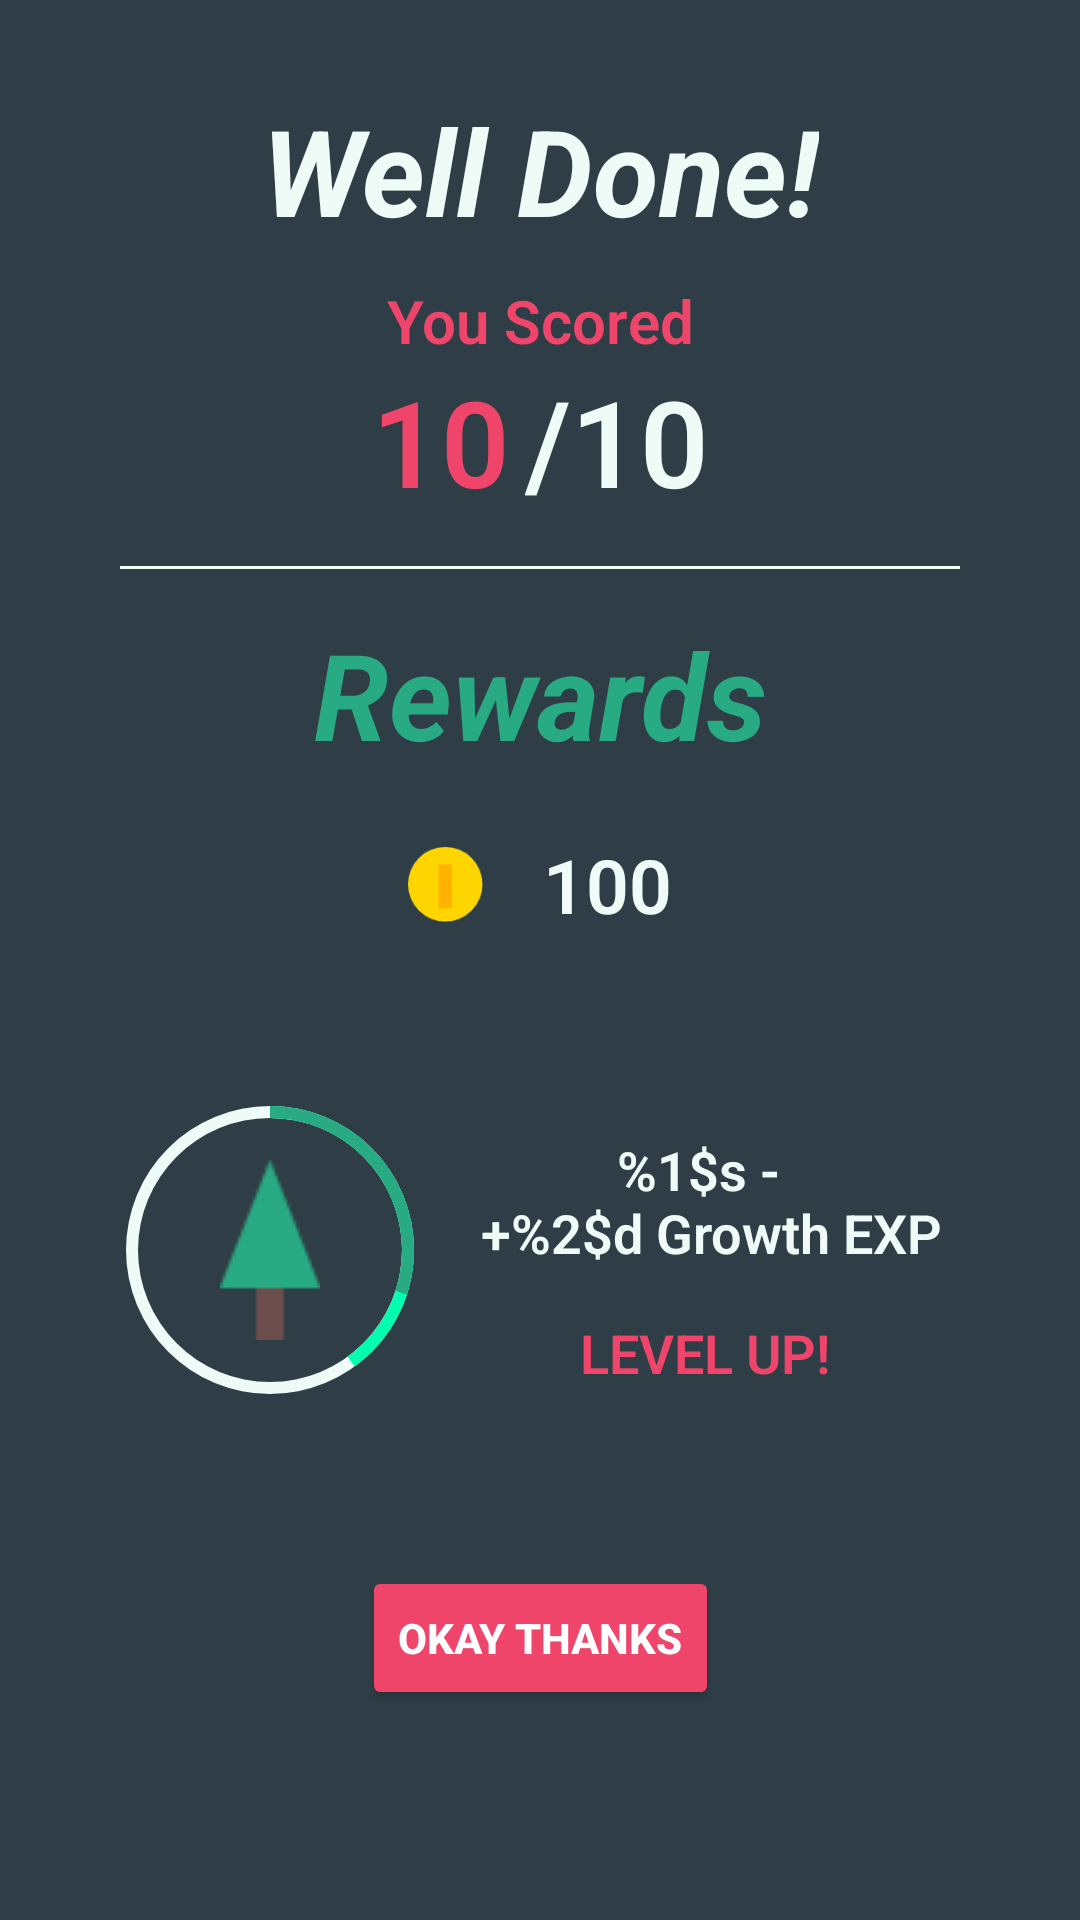

Where to tap for icons on this 1080×1920 app screen, as point (x, y):
coin: point (445, 884)
